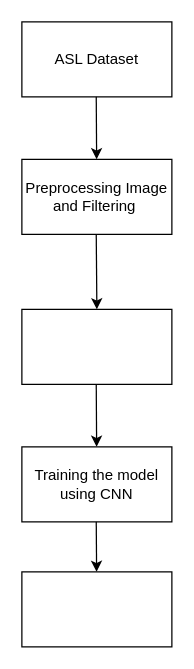
This 194x669 diagram has some shape labels left out. The shapes that lost their labels are listed below. From the top down, each one's centre as x and y in pixels, then its label:
the point at 96,346: Converting Images into Vectors
the point at 96,609: Recognition of ASL Hand Gesture using OpenCv
